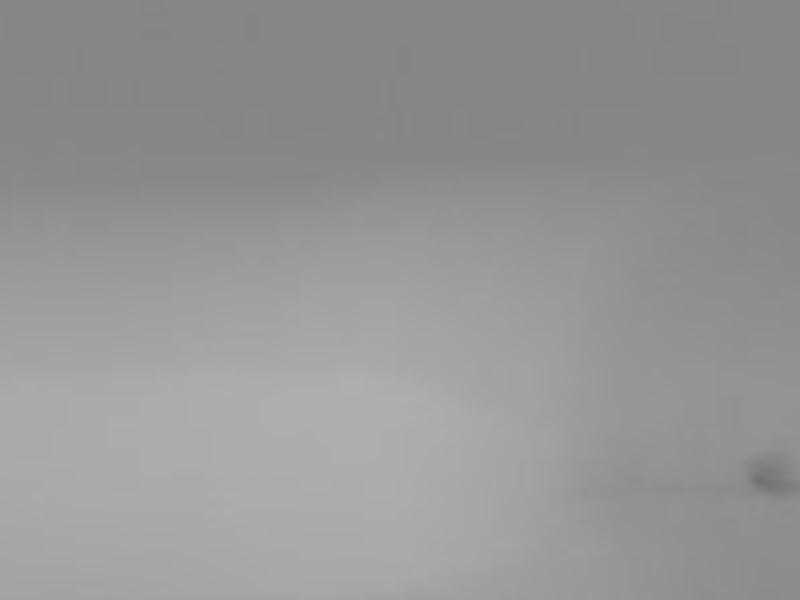defect: (747, 448, 798, 489)
